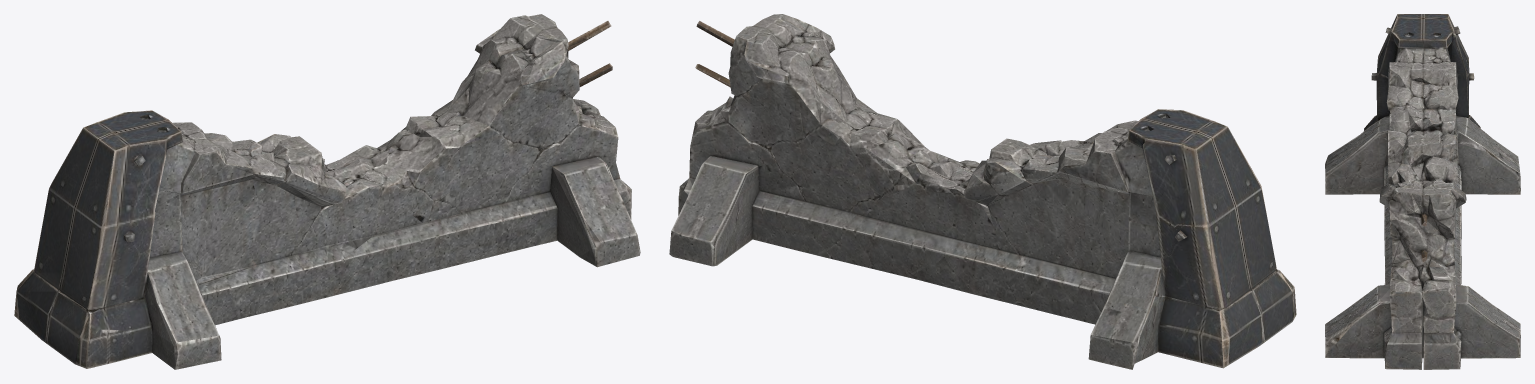
The model's file is shared_rubble_kit__wall_stub_low_lod1.glb.
3 views of the same model, side by side, from view 1: azimuth 30°, elevation 25°; view 2: azimuth 150°, elevation 25°; view 3: azimuth 270°, elevation 25° (orthographic). The views are drawn at different scales.
Visible parts, largest first — view 1: mesh_node; view 2: mesh_node; view 3: mesh_node.
Boxes of the visible parts, x1,y1,x2,y2 form: mesh_node: [14, 14, 640, 369]; mesh_node: [669, 14, 1296, 369]; mesh_node: [1325, 14, 1520, 369].
Size of the model in its own units: 7.31 by 2.4 by 2.7.
1 material, 1 textured.
